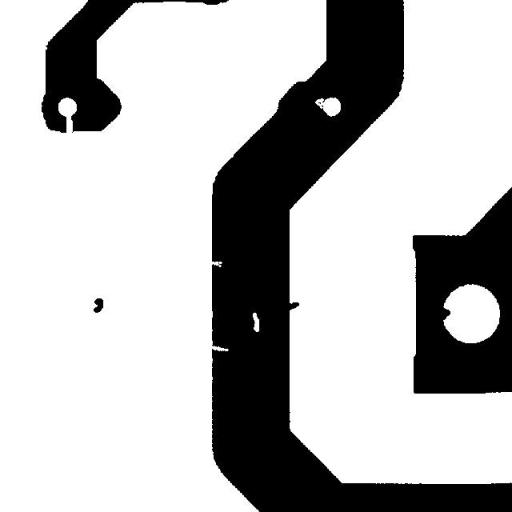copper: (86, 290, 110, 320)
mousebite: (201, 336, 236, 358), (307, 90, 331, 116), (199, 254, 230, 274)
open: (58, 106, 80, 141)
pin-hole: (245, 305, 266, 339)
spur: (427, 298, 458, 327), (278, 294, 306, 318)
